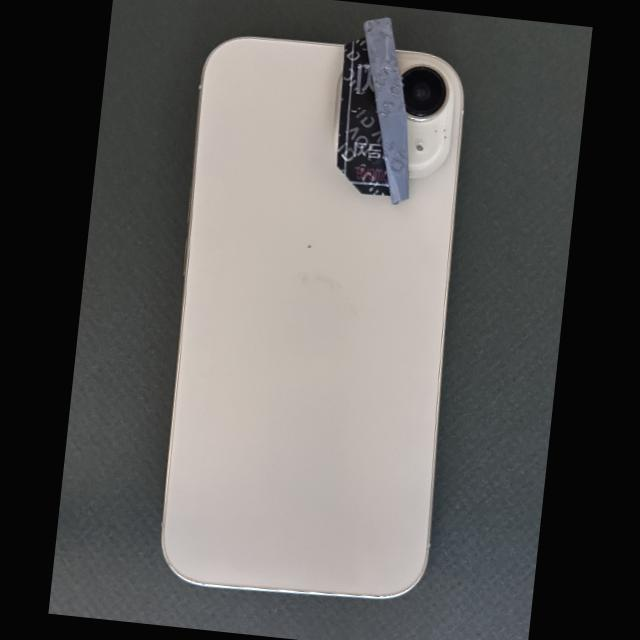lens: (399, 64, 448, 120)
phone: (160, 36, 463, 599)
sticker: (335, 16, 409, 205)
